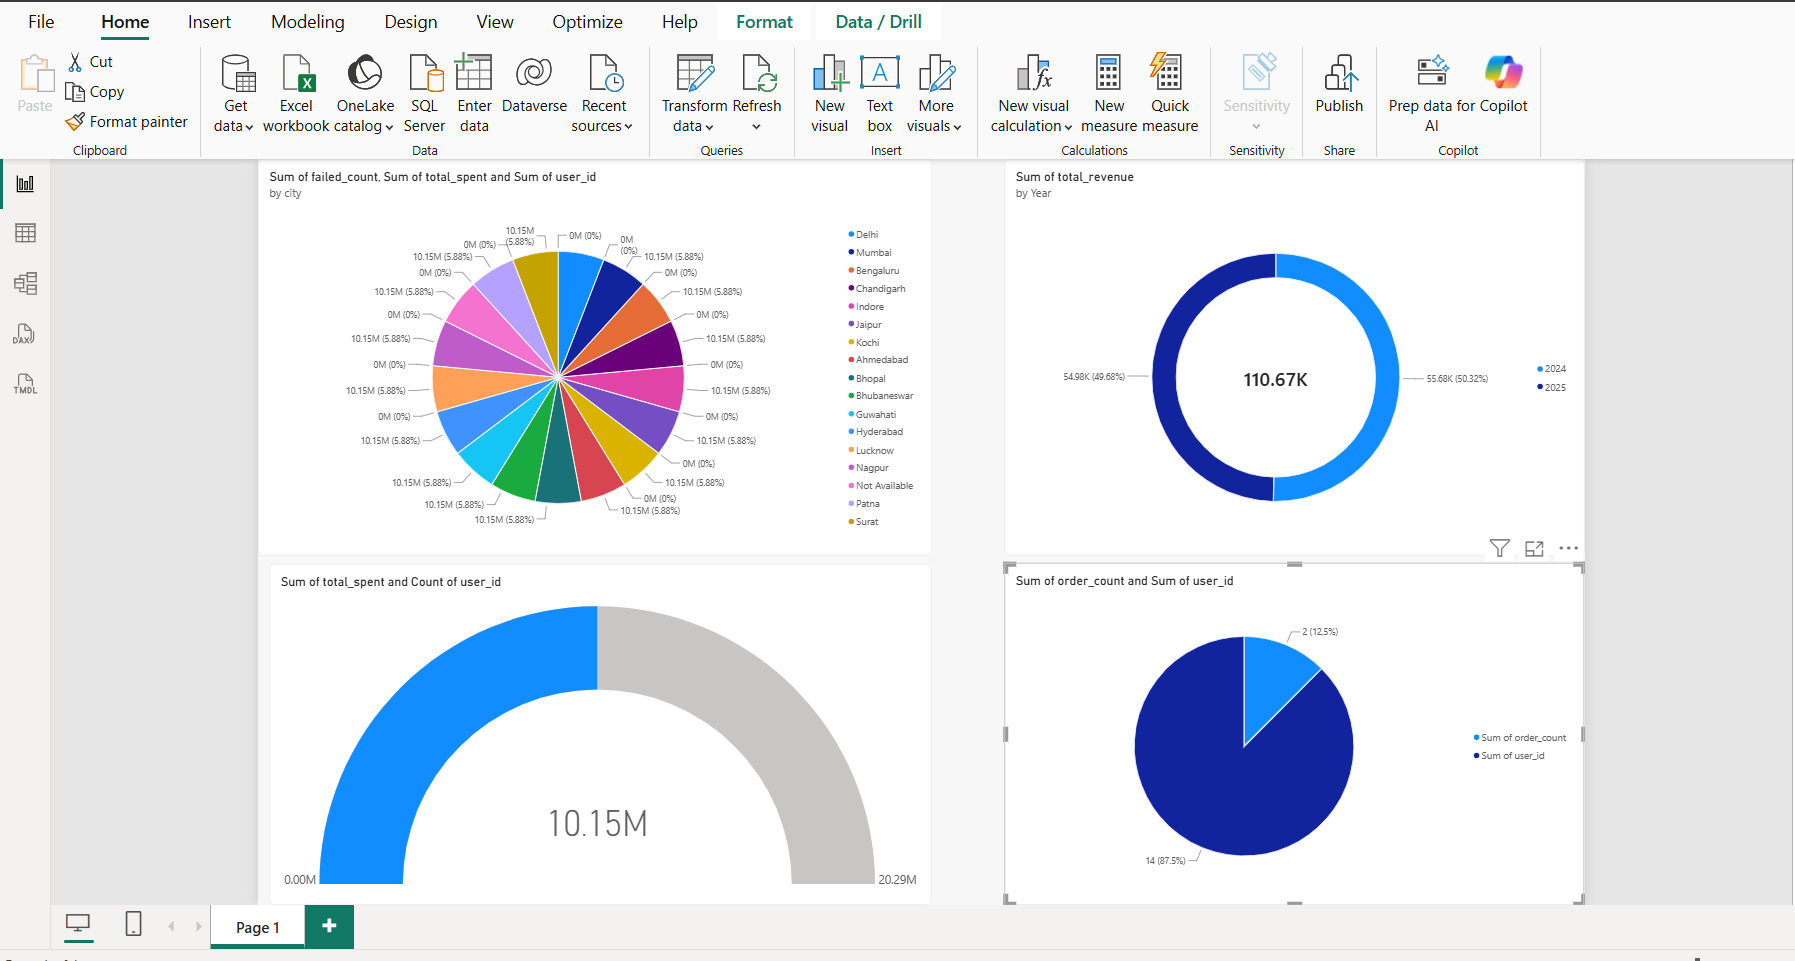

What the dashboard file says about the page in this screenshot:
{"tool":"powerbi","page":{"name":"Page 1","canvas":[1920,1080],"ordinal":0},"visuals":[{"type":"pieChart","fields":{"Category":["v_failed_orders_by_city.city"],"Y":["Sum(v_failed_orders_by_city.failed_count)","Sum(v_top_customers_by_revenue.total_spent)","Sum(v_top_customers_by_revenue.user_id)"]},"box":[0,0,975.6,574.3],"z":0},{"type":"donutChart","fields":{"Category":["v_monthly_revenue_trend.month.Variation.Date Hierarchy.Year","v_monthly_revenue_trend.month.Variation.Date Hierarchy.Quarter","v_monthly_revenue_trend.month.Variation.Date Hierarchy.Month","v_monthly_revenue_trend.month.Variation.Date Hierarchy.Day"],"Y":["Sum(v_monthly_revenue_trend.total_revenue)"]},"box":[1080.6,0,839.8,574.3],"z":1000},{"type":"pieChart","fields":{"Y":["Sum(v_repeat_purchase_users.order_count)","Sum(v_repeat_purchase_users.user_id)"]},"box":[1080.6,584.6,839.8,496.1],"z":2000},{"type":"gauge","fields":{"Y":["Sum(v_top_customers_by_revenue.total_spent)"]},"box":[16.5,586.6,959.2,494],"z":2001}]}

Visuals, with their boxes on the page's 1920x1080 design canvas (x1, y1, x2, y2). These are canvas units, not pixel positions in the 1795x961 screenshot, which may show the page scaled, cropped or inside an application window:
pieChart - v_failed_orders_by_city.city x Sum(v_failed_orders_by_city.failed_count): 0/0/976/574
donutChart - v_monthly_revenue_trend.month.Variation.Date Hierarchy.Year x v_monthly_revenue_trend.month.Variation.Date Hierarchy.Quarter: 1081/0/1920/574
pieChart - Sum(v_repeat_purchase_users.order_count) x Sum(v_repeat_purchase_users.user_id): 1081/585/1920/1081
gauge - Sum(v_top_customers_by_revenue.total_spent): 16/587/976/1081
